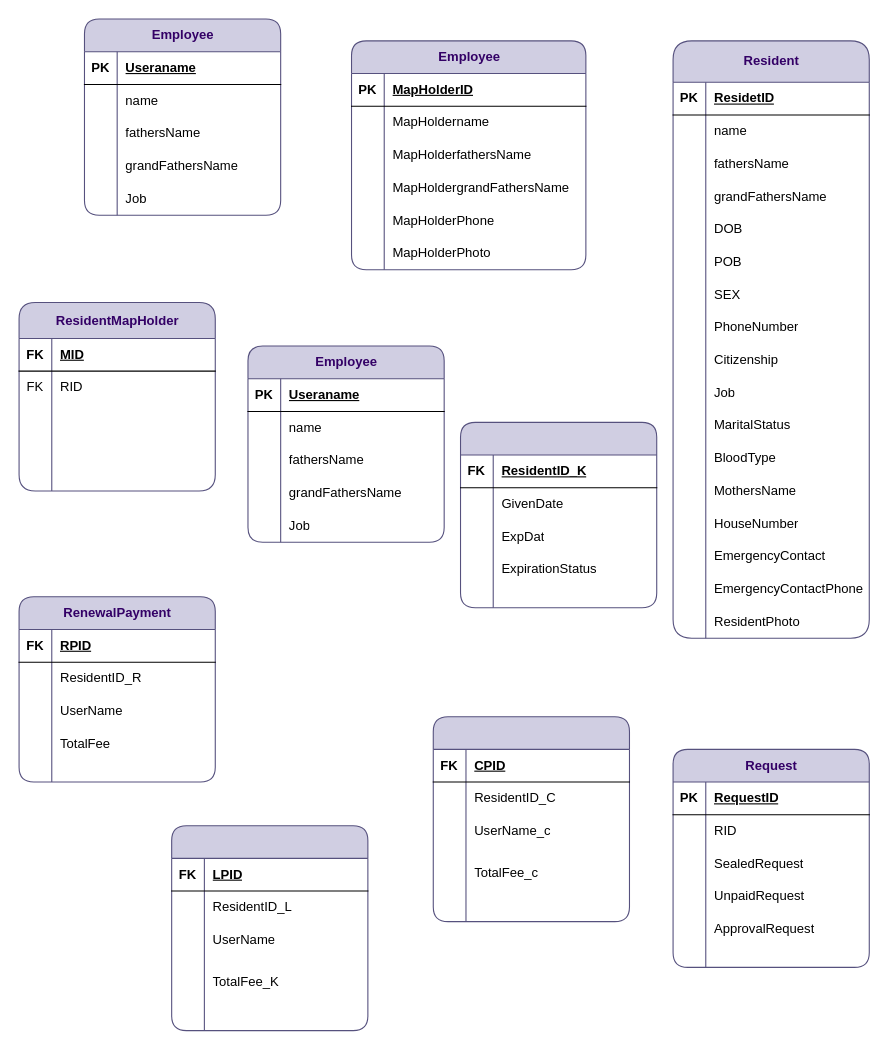
Image size: 888x1050. Some labels were removed from this diagram. Here are the shapes that lost their labels. From the top down, the box of each, then its label:
(459, 421, 657, 608): KebeleResidentID
(432, 716, 629, 922): CreatePayment
(171, 825, 368, 1031): LostPayment
